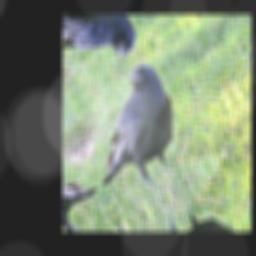Crow: (67, 55, 200, 220)
